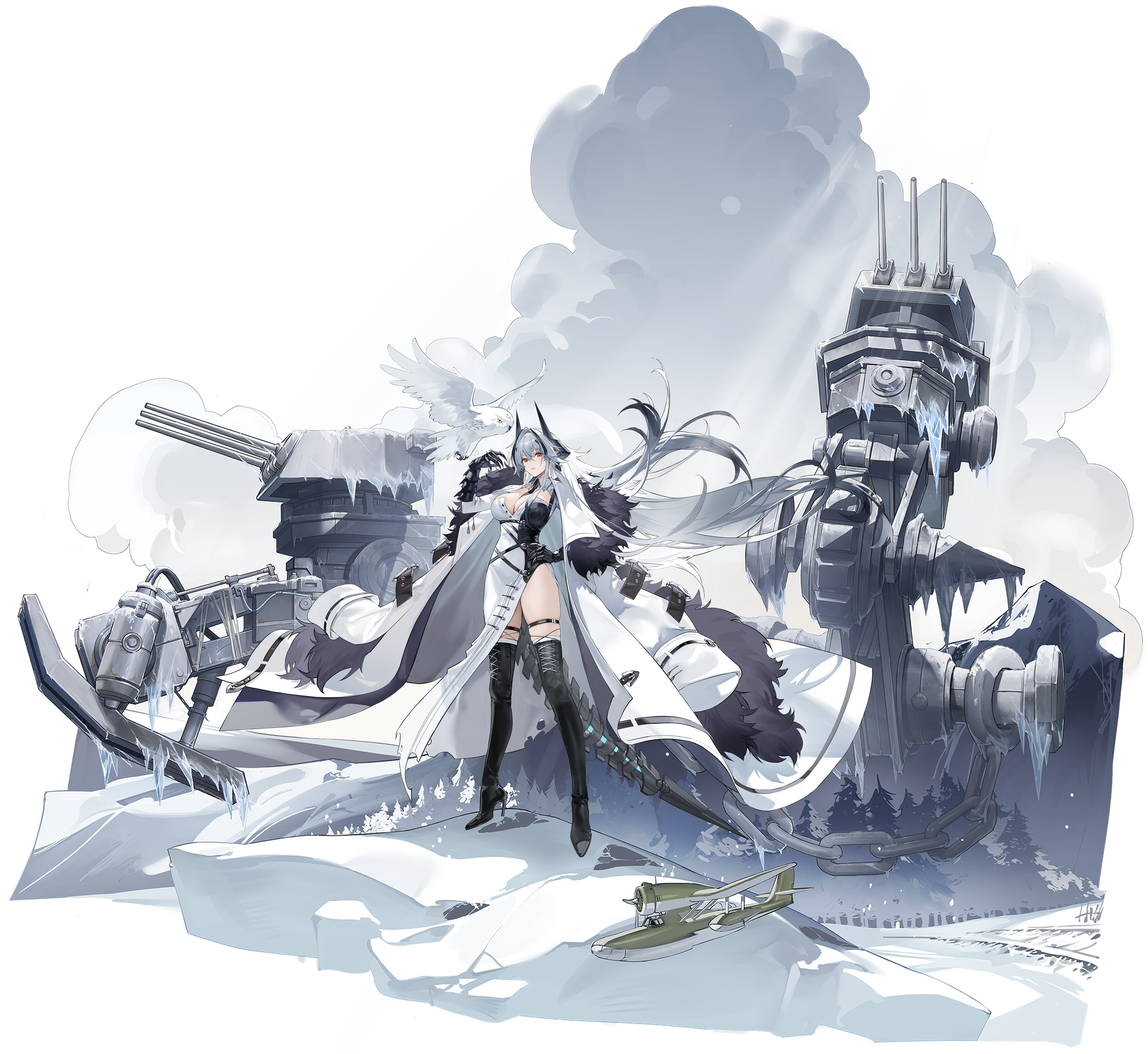person: (398, 382, 664, 881)
